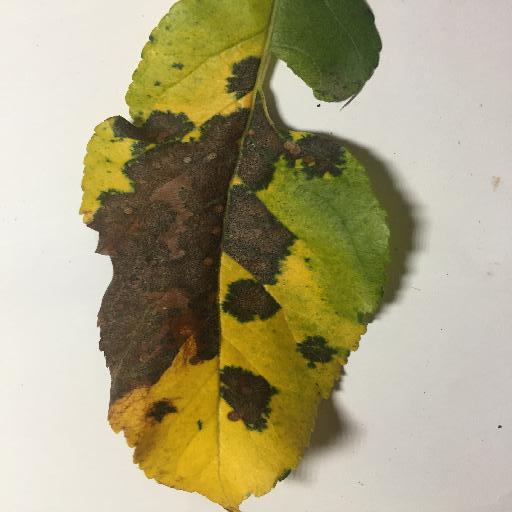Brown_Spot: (87, 112, 241, 379), (228, 189, 295, 276), (219, 366, 278, 426), (254, 104, 283, 195), (293, 132, 343, 179), (219, 281, 281, 318), (214, 56, 261, 101), (293, 330, 336, 367), (145, 395, 185, 421)
